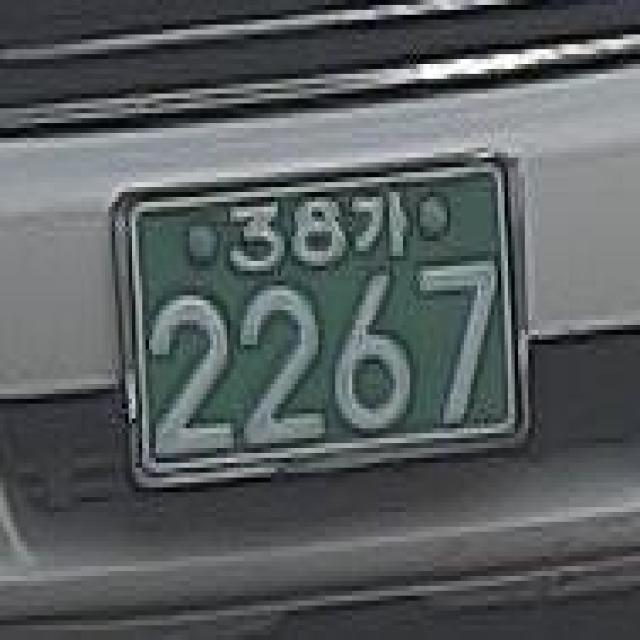illegal_plate: (104, 149, 542, 485)
